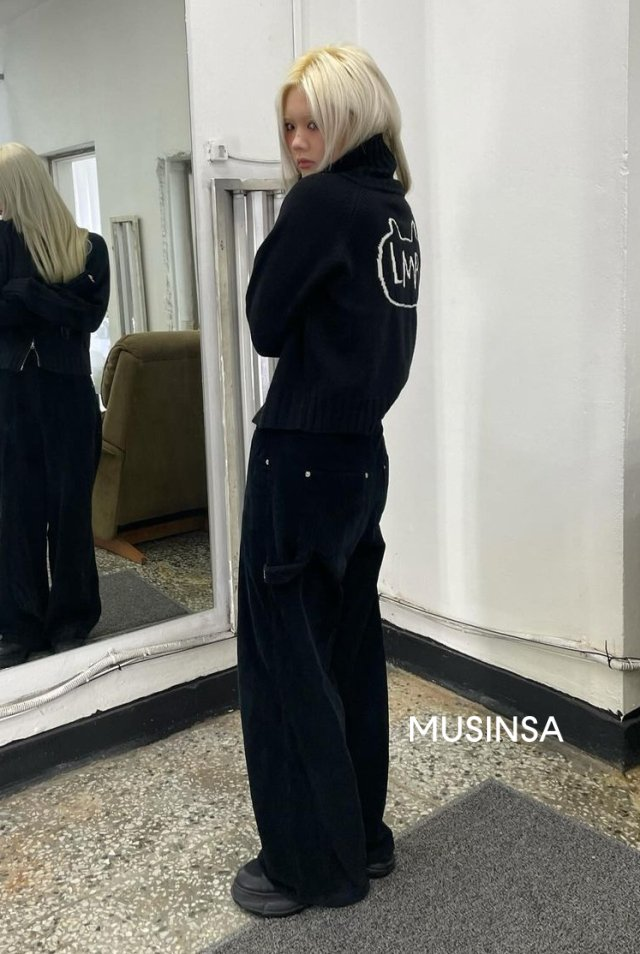Hoodie: (262, 146, 431, 436)
Pants: (241, 419, 400, 888)
Shoes: (226, 834, 405, 918)
